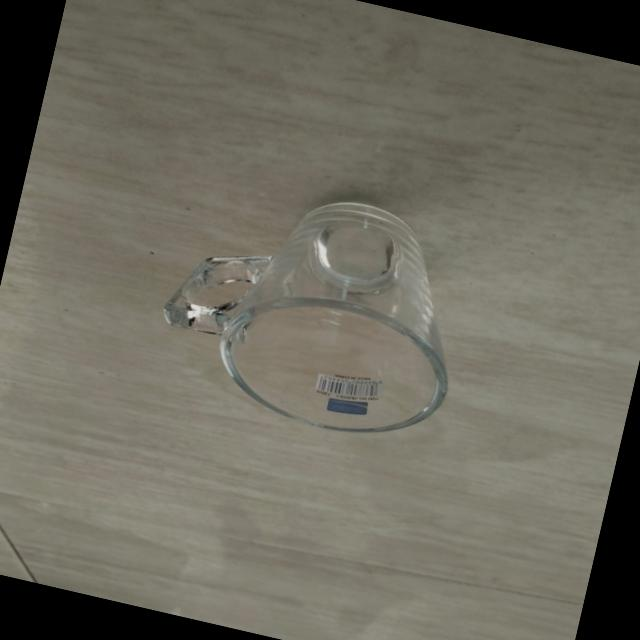glass-VX4N: (144, 162, 484, 453)
